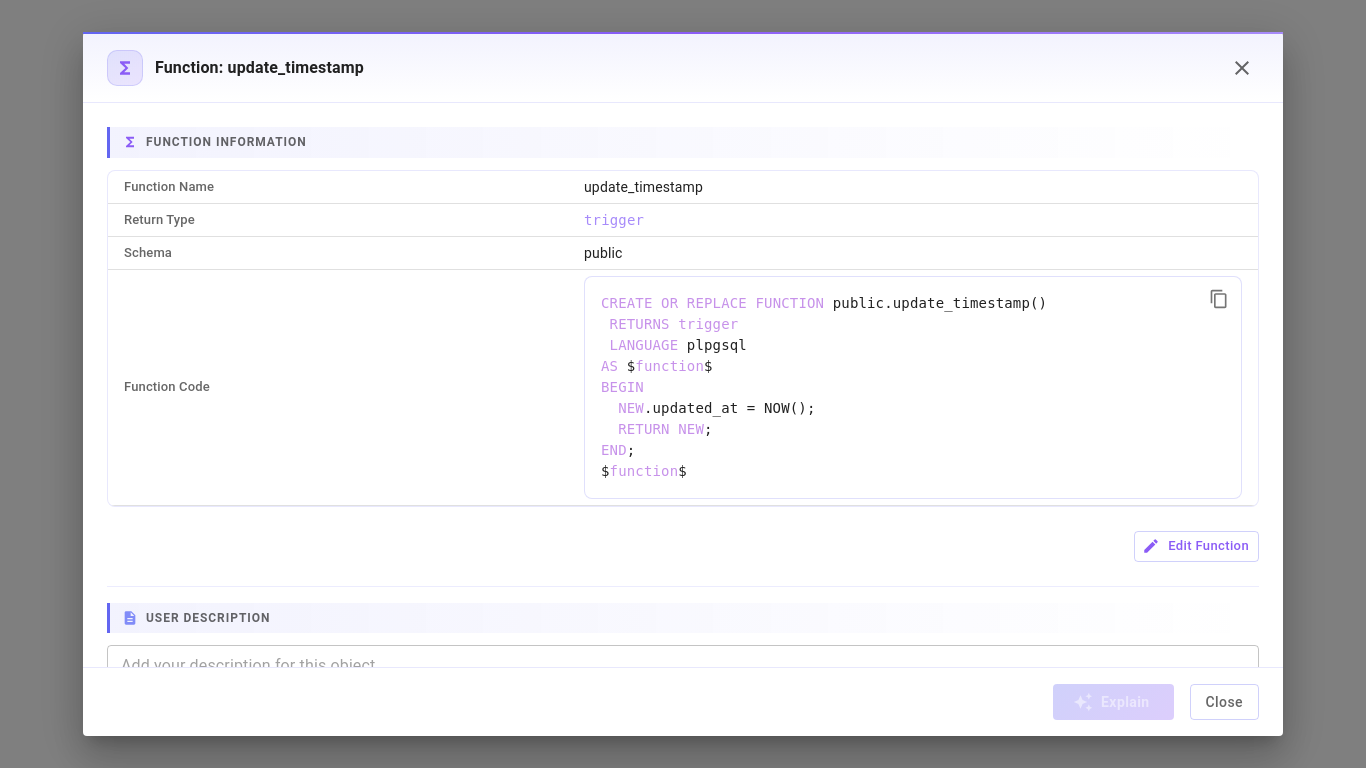
Test: ElementDetailsModal – function inline editing › Save button – success path › shows success alert after successful save
This screenshot has width=1366, height=768.
Click the button "Edit Function".
click(1197, 546)  # box top-left (1134, 531), bottom-right (1259, 562)
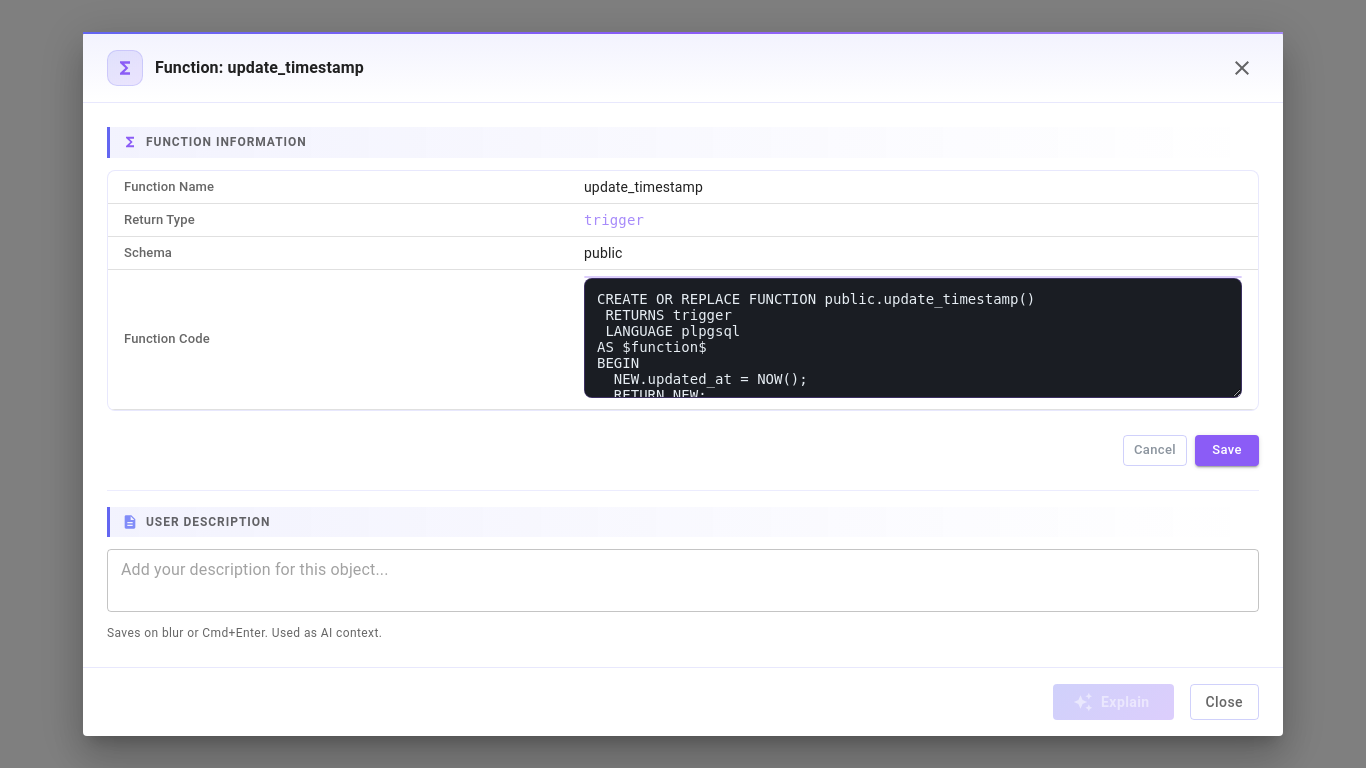
Click the button "Save".
click(1227, 450)  # box top-left (1195, 435), bottom-right (1259, 466)
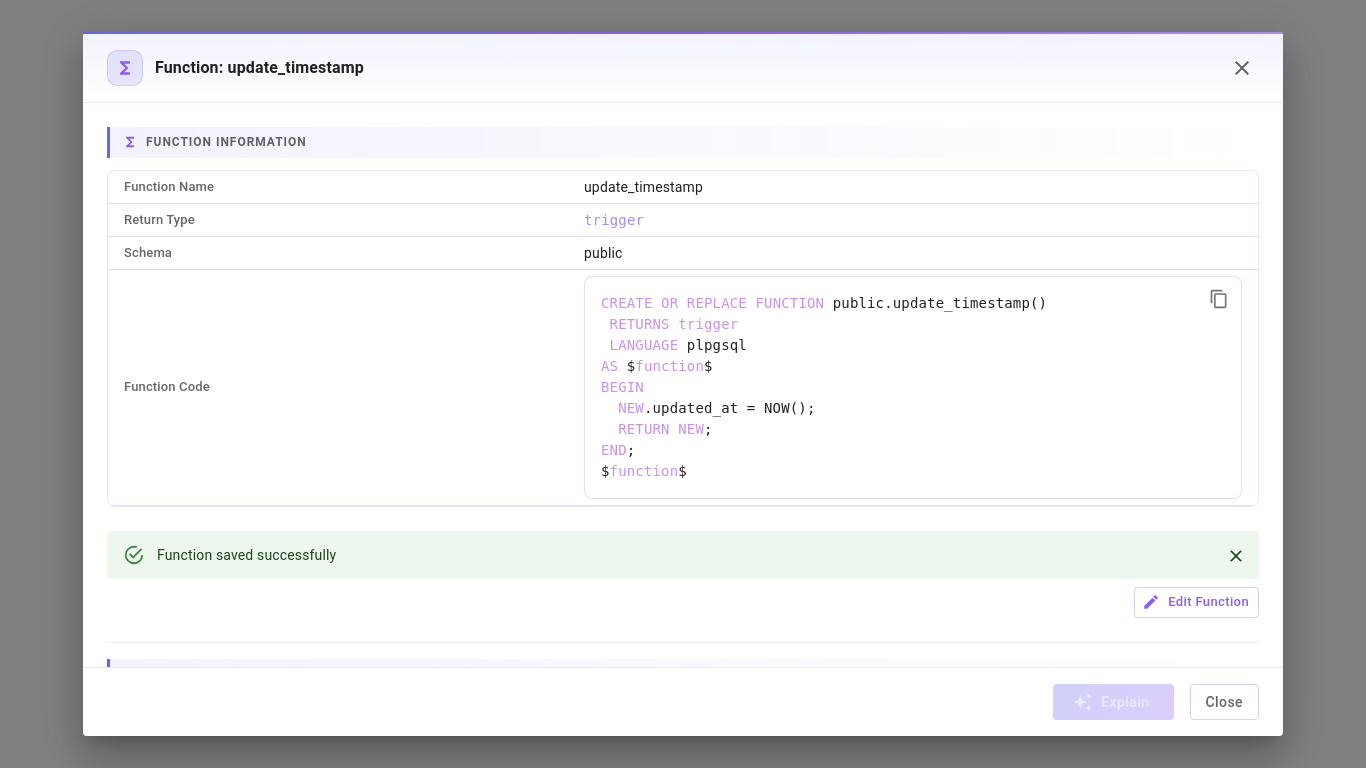
Expected: the text "Function saved successfully" is shown, top-left (157, 547), bottom-right (336, 563)
